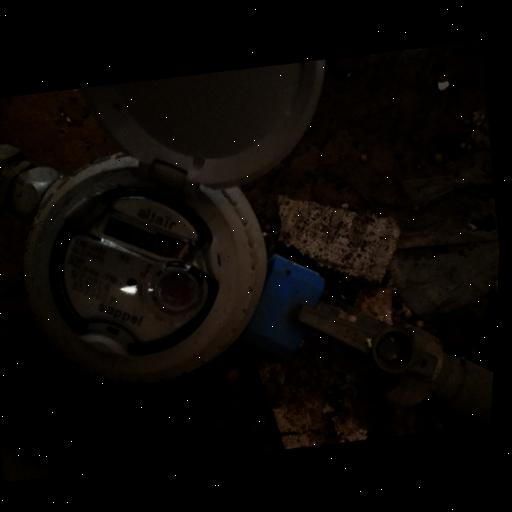0: (104, 217, 126, 240), (114, 221, 136, 244)
2: (135, 229, 157, 253)
3: (156, 235, 178, 260)
8: (146, 231, 169, 257)
9: (164, 236, 188, 262), (124, 225, 147, 248)
border_water_meter_number: (87, 194, 204, 286)
